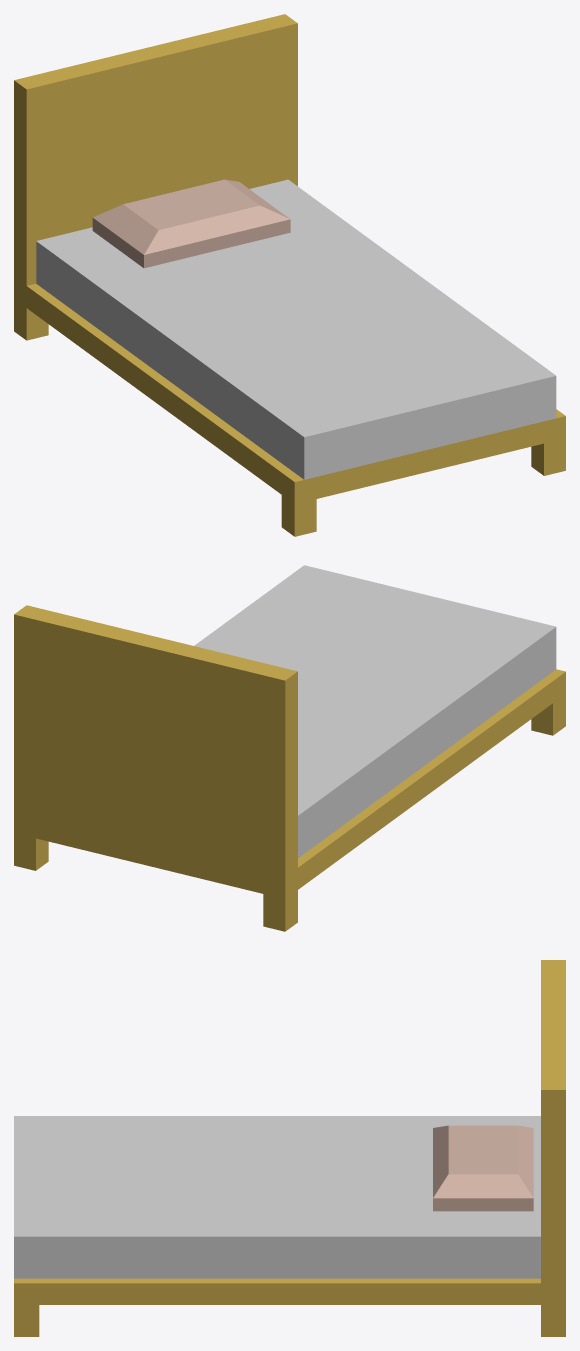
The model's file is Bed8.fbx.
The picture shows the model from 3 angles, top to bottom: view 1: azimuth 30°, elevation 25°; view 2: azimuth 150°, elevation 25°; view 3: azimuth 270°, elevation 25°; orthographic projection.
Parts seen in each view (by area): view 1: Cube; view 2: Cube; view 3: Cube.
Part boxes in pixels (<box>): Cube: <box>14,14,565,536</box>; Cube: <box>14,565,565,931</box>; Cube: <box>14,960,565,1336</box>.
Size of the model in its own units: 1.8 by 1.59 by 3.23.
